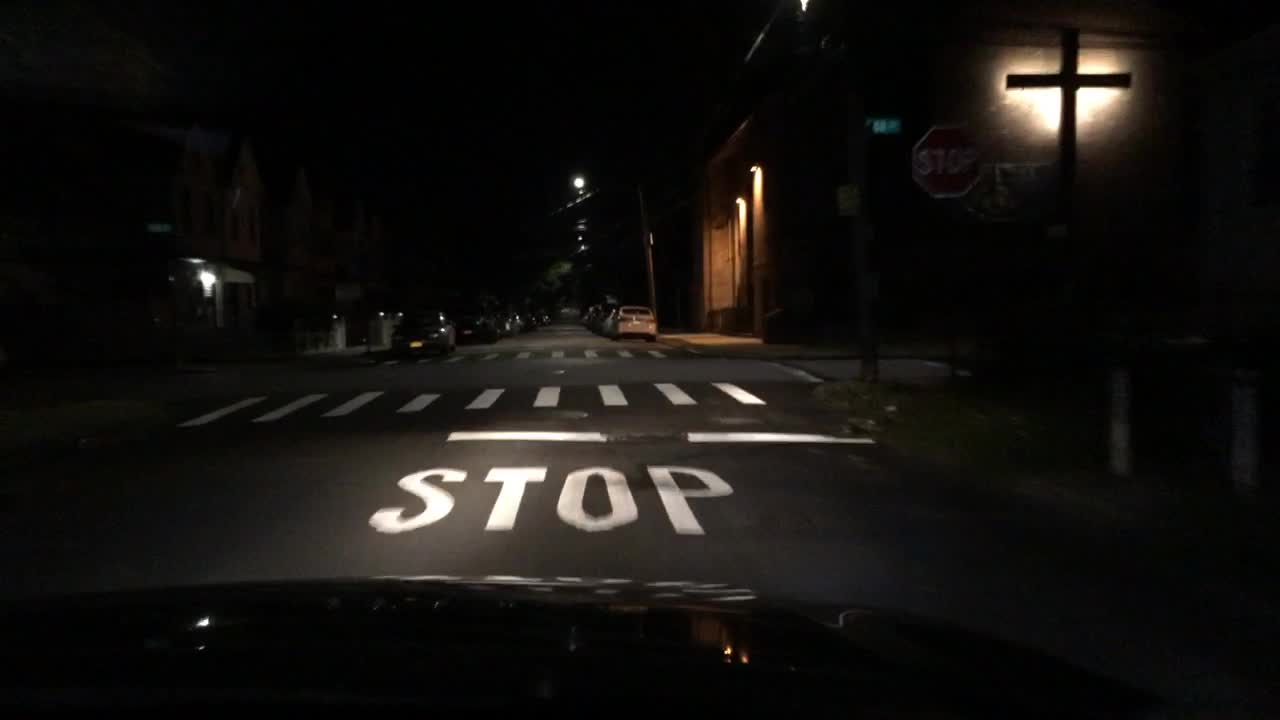car: (389, 311, 456, 356), (611, 305, 658, 339), (454, 313, 499, 343), (591, 306, 622, 330), (500, 311, 520, 335), (581, 311, 603, 328), (536, 308, 551, 326), (524, 310, 539, 326)
traffic sign: (909, 122, 986, 197), (868, 117, 898, 132), (148, 222, 173, 232)
